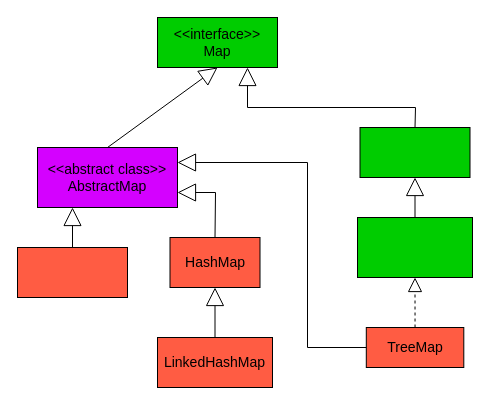
This 490x405 diagram has some shape labels left out. The shapes that lost their labels are listed below. From the top down, each one's centre as x and y in pixels, then its label:
(414,152): <<interface>> SortedMap
(414,247): <<interface>> NavigableMap
(72,272): WeakHashMap
